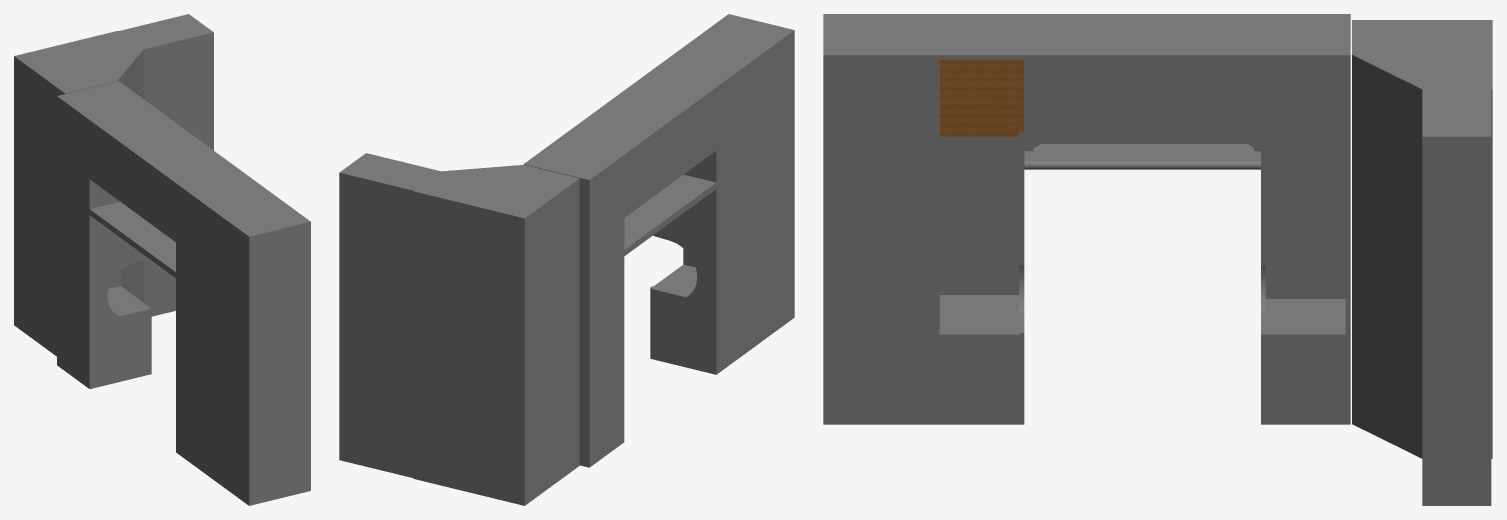
Rendered from Vao de cama_Mais_Canto3.gltf.
The picture shows the model from 3 angles, left to right: view 1: azimuth 30°, elevation 25°; view 2: azimuth 150°, elevation 25°; view 3: azimuth 270°, elevation 25°; orthographic projection. The views are drawn at different scales.
Visible parts, largest first — view 1: root; view 2: root; view 3: root.
Boxes of the visible parts, x1=… form: root: x1=14, y1=14, x2=310, y2=505; root: x1=339, y1=14, x2=794, y2=505; root: x1=823, y1=14, x2=1492, y2=505.
Size of the model in its own units: 178 by 250 by 411.
Materials: 2 (1 with a texture image).
